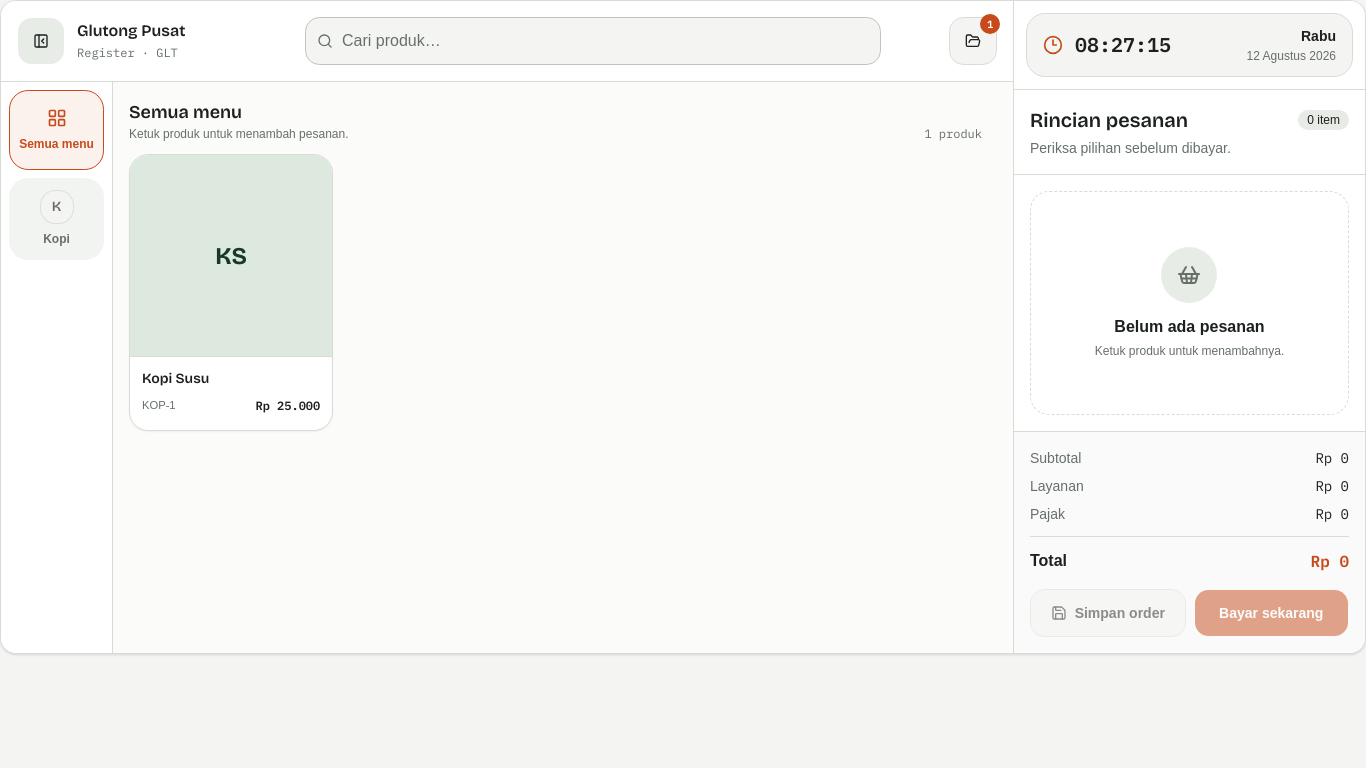
Test: POS register layout › keeps a resumed item identity when saving an edited note
The image size is (1366, 768).
Click the button named "Buka pesanan tersimpan". click: (973, 41)
box: [949,17,997,65]
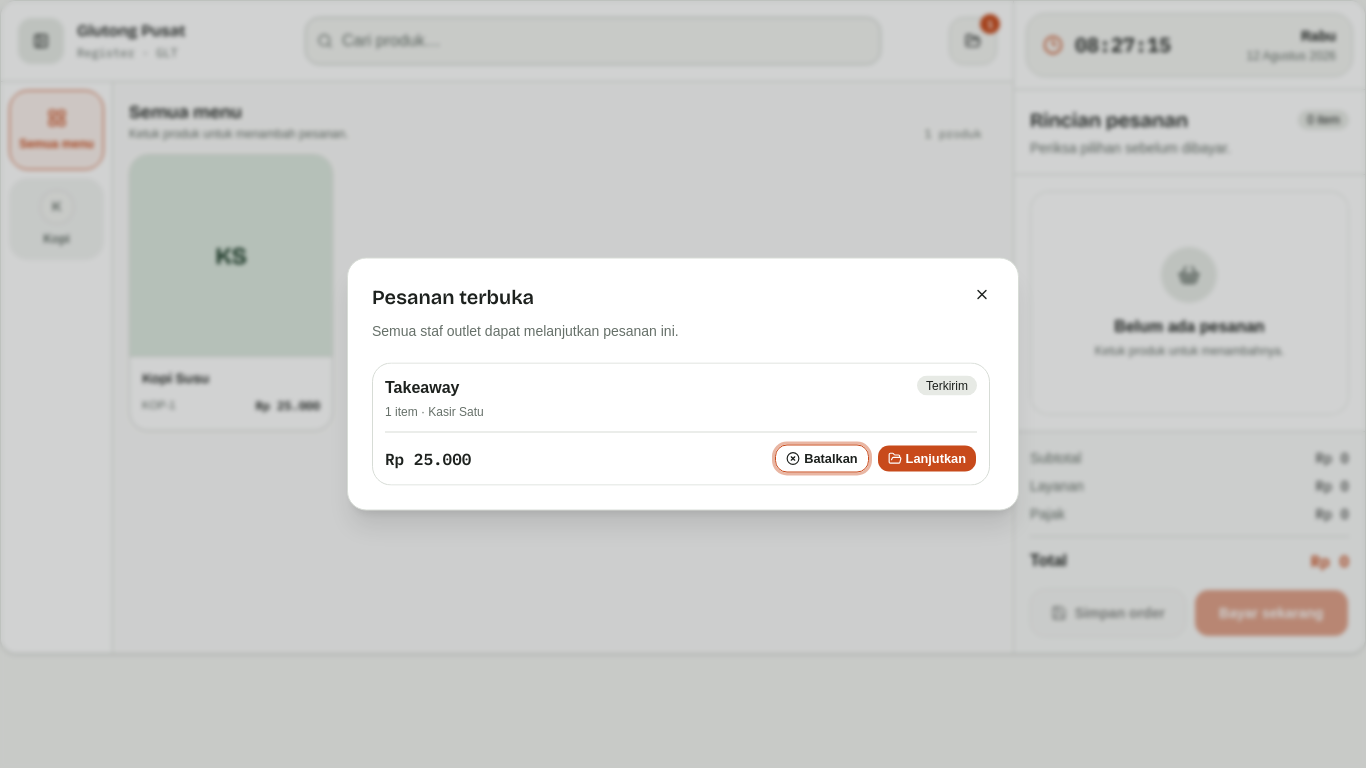
Click the button "Lanjutkan". click: (927, 458)
box: [877,444,977,472]
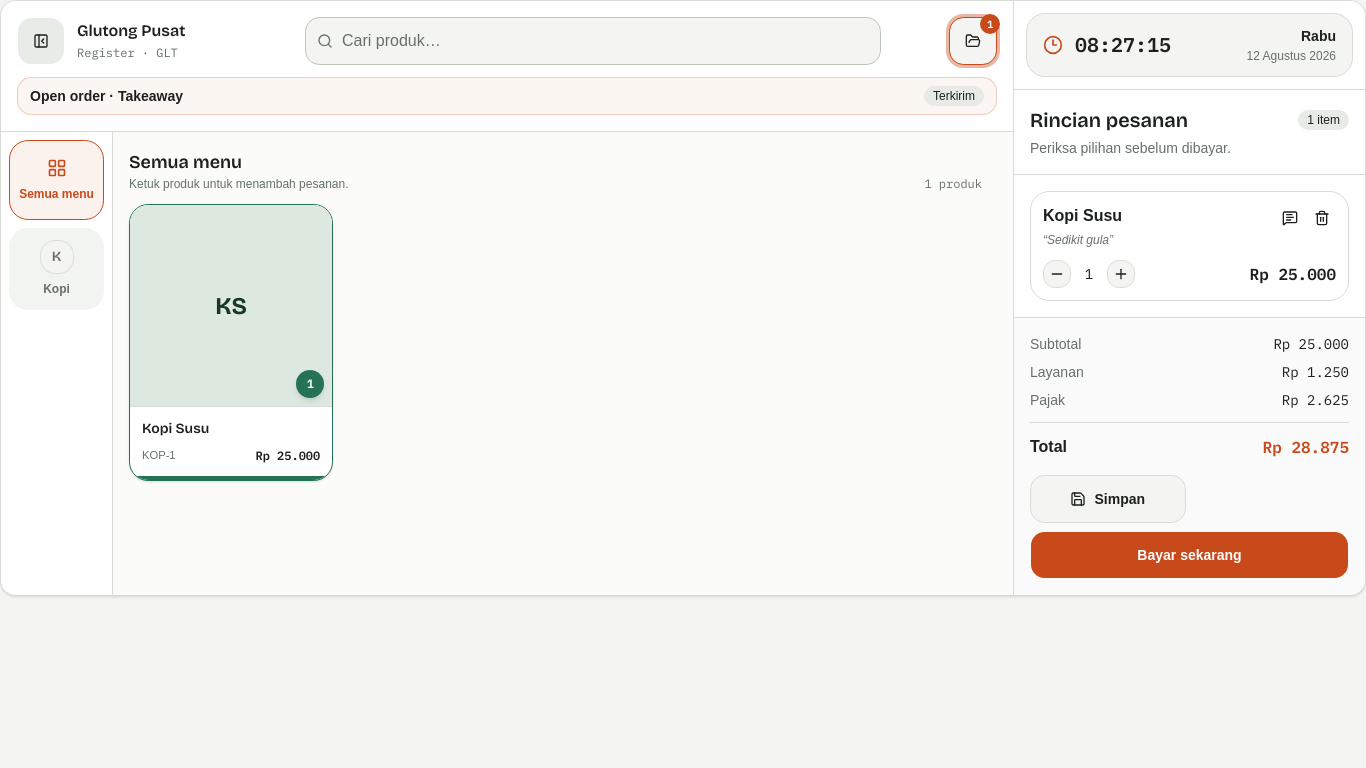
Click the button named "Ubah catatan Kopi Susu". click: (1290, 218)
box: [1276,204,1304,232]
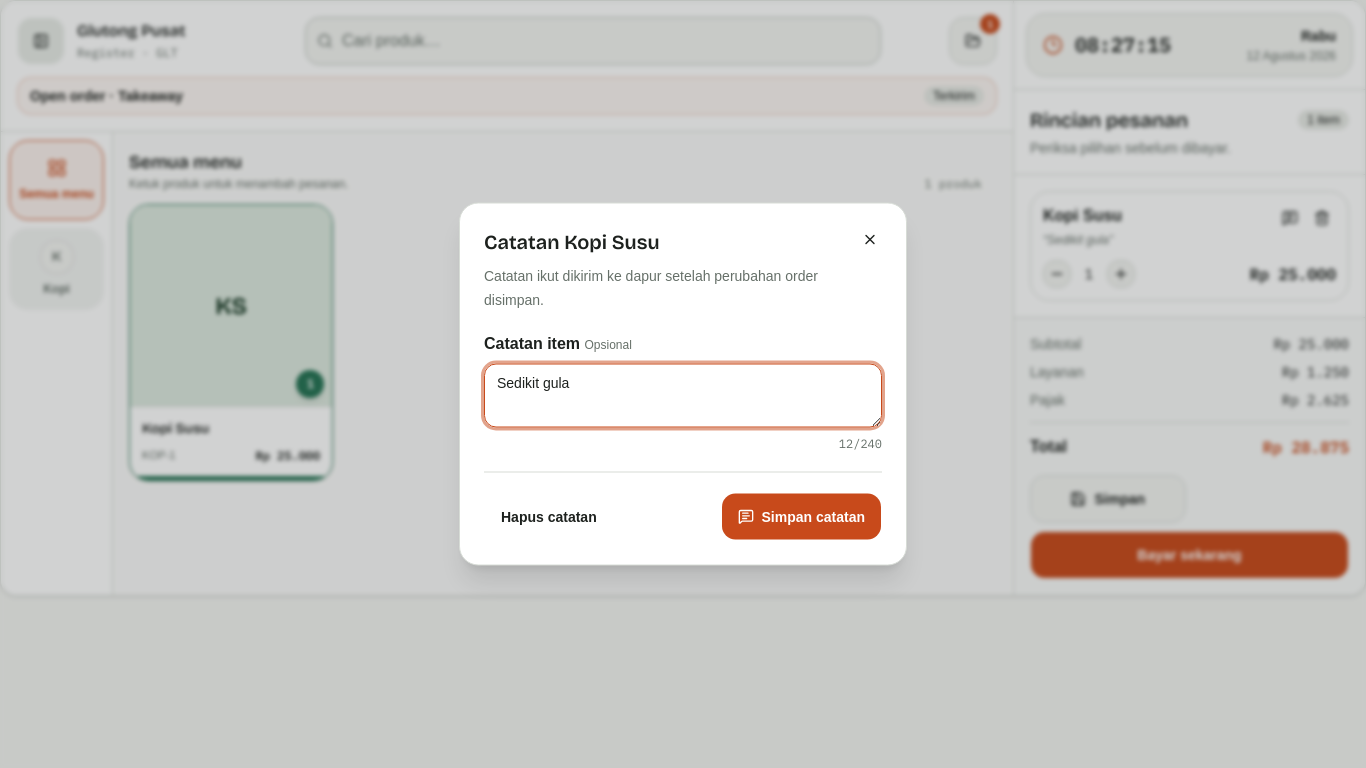
Replace the text in the text box labelled "Catatan item Opsional 12/240" with "Tanpa gula". click: (683, 396)
box: [484,364,882,428]
Click the button "Simpan catatan". click: (801, 516)
box: [720,492,882,540]
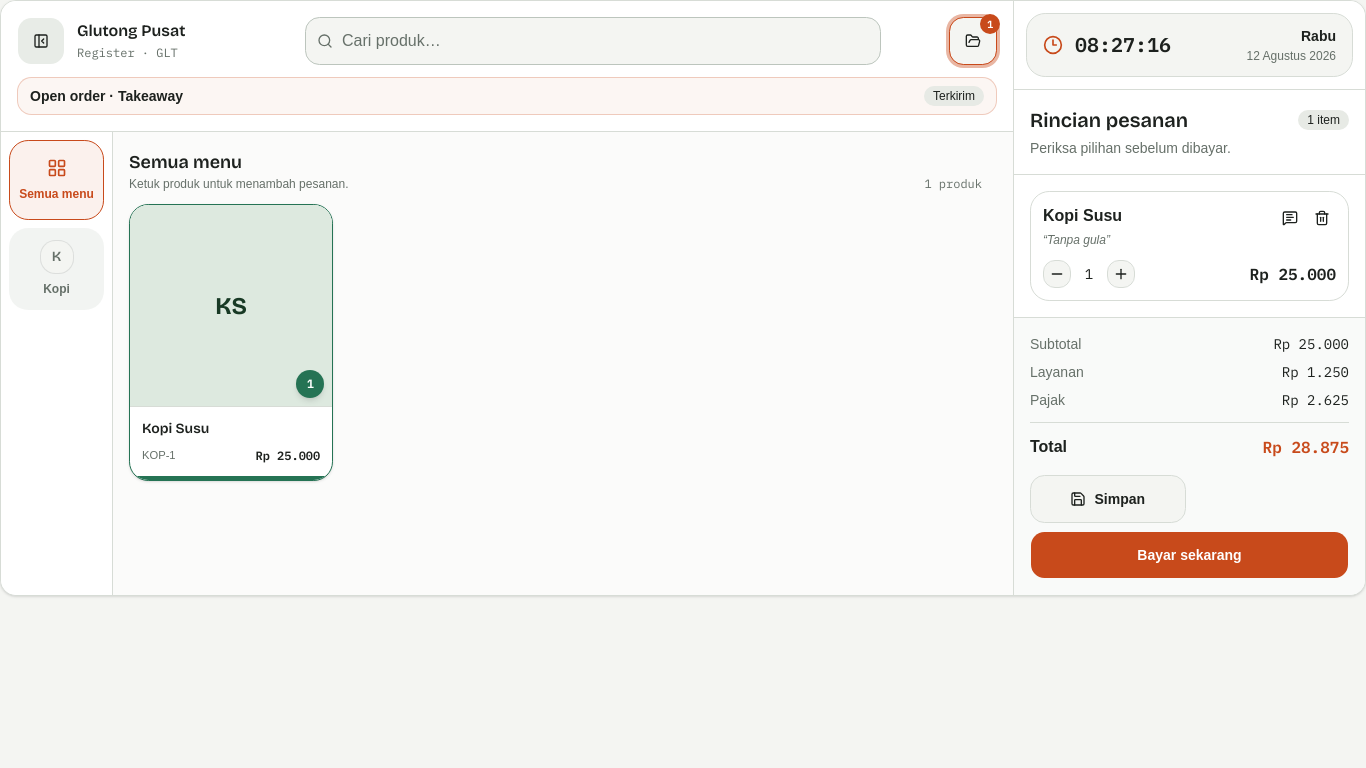
Click the button "Simpan". click: (1108, 499)
box: [1030,475,1186,523]
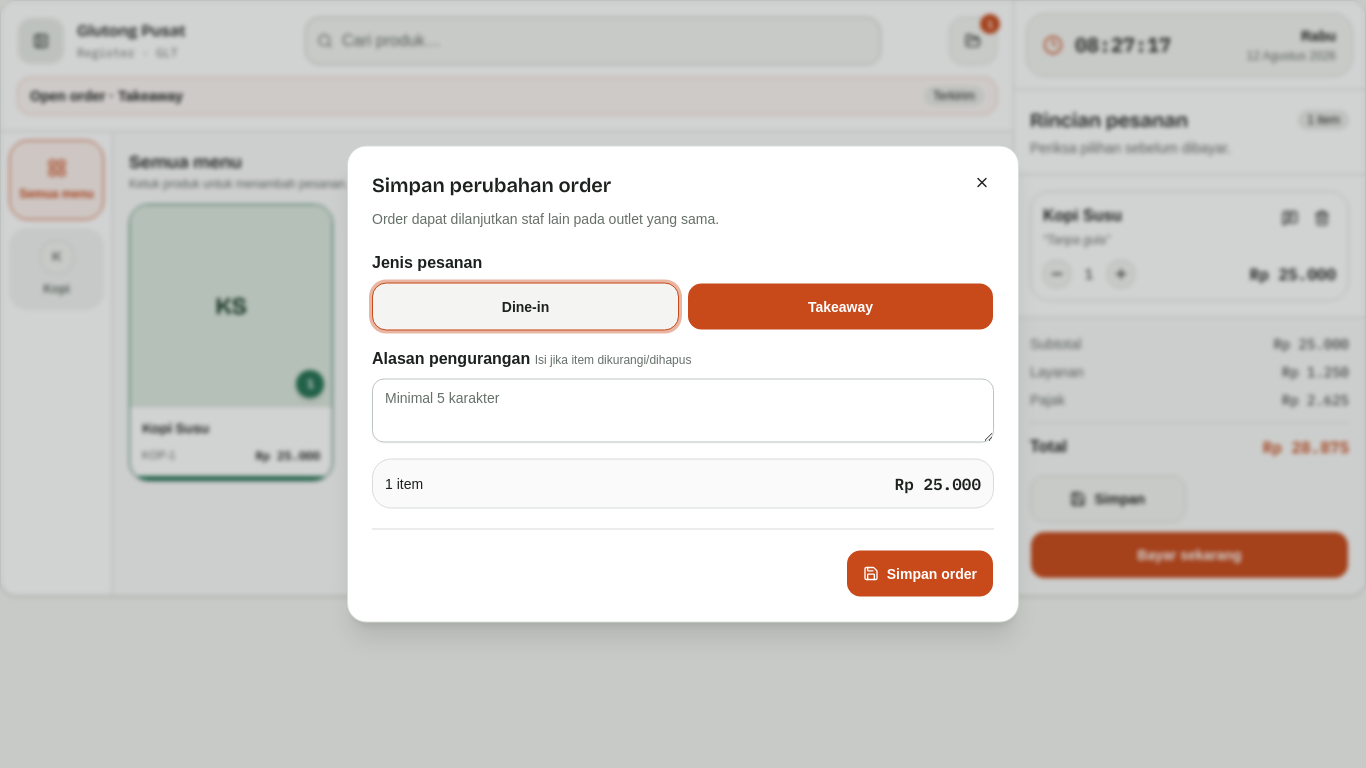
Click the button "Simpan order". click: (920, 574)
box: [846,550,994,598]
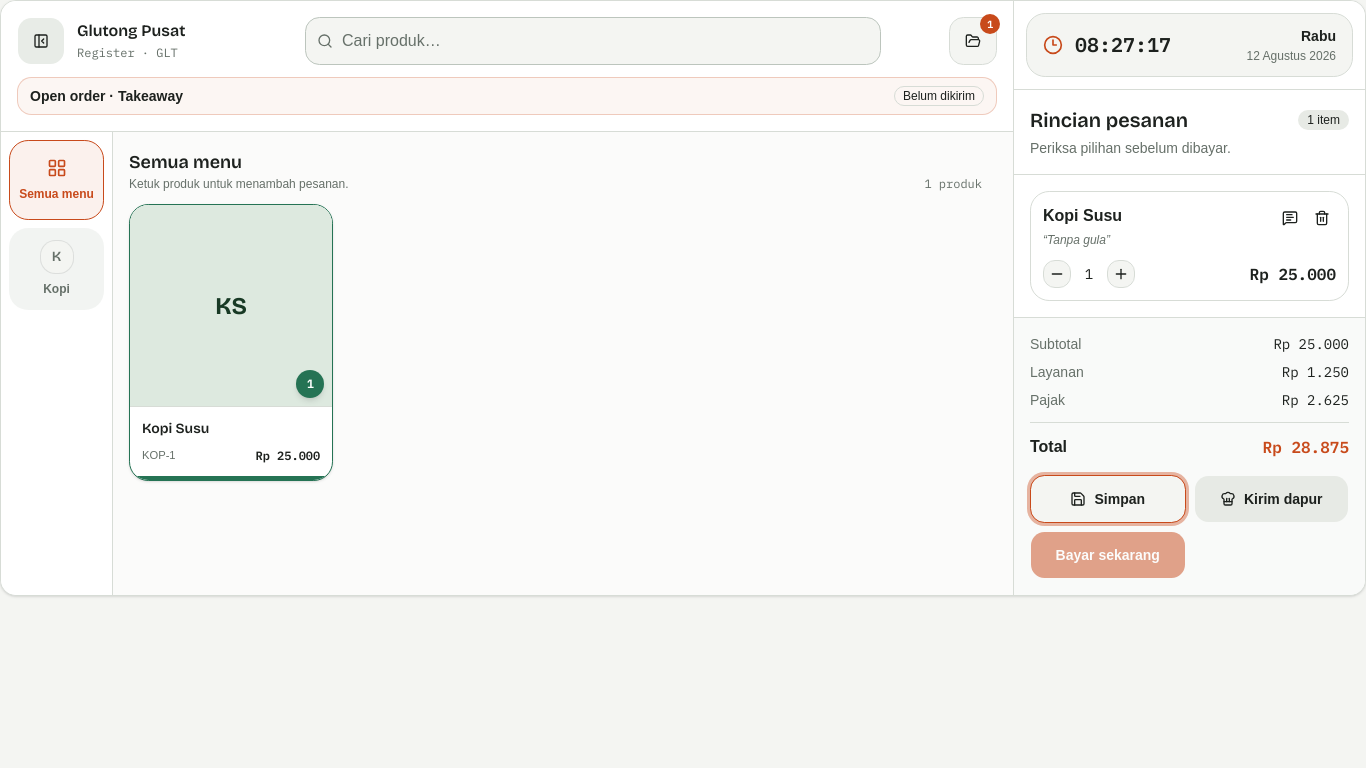
Expected: the button "Kirim dapur" is shown, [1194,475,1349,523]
